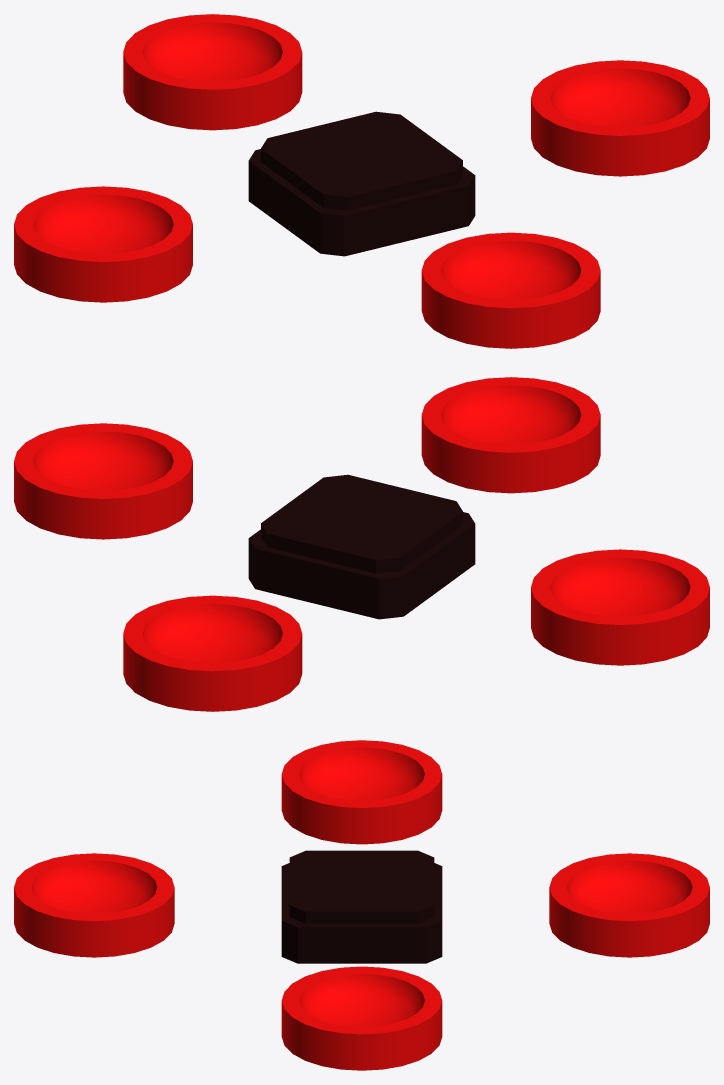
File: Splitter_4.obj
3 renders of one model, top to bottom at view 1: azimuth 30°, elevation 25°; view 2: azimuth 150°, elevation 25°; view 3: azimuth 270°, elevation 25°, orthographic. The views are drawn at different scales.
Parts seen in each view (by area): view 1: Handle1, Output41, Output11, Output21, Output31; view 2: Handle1, Output41, Output11, Output31, Output21; view 3: Handle1, Output21, Output31, Output41, Output11.
Boxes of the visible parts, x1,y1,x2,y2 form: Handle1: (248, 111, 475, 256); Output41: (421, 232, 600, 348); Output11: (123, 14, 302, 130); Output21: (14, 186, 192, 302); Output31: (531, 60, 709, 176); Handle1: (248, 474, 475, 619); Output41: (421, 377, 600, 493); Output11: (123, 595, 302, 711); Output31: (14, 423, 192, 539); Output21: (531, 549, 709, 665); Handle1: (281, 850, 442, 963); Output21: (281, 740, 442, 844); Output31: (281, 966, 442, 1070); Output41: (14, 853, 174, 957); Output11: (549, 853, 709, 957).
Bounding box in the file's own units: 2.6 × 0.2 × 2.6.
